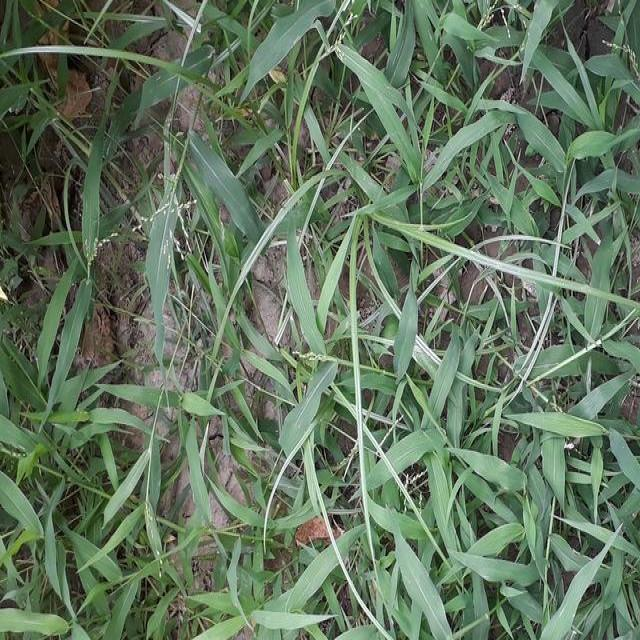weed: (375, 378, 640, 640), (326, 55, 508, 369), (530, 20, 640, 357), (0, 388, 114, 637)
